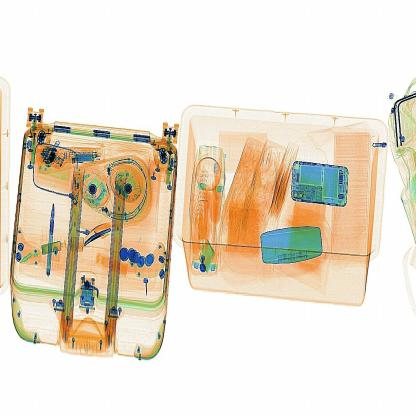wrench: (78, 214, 117, 250)
